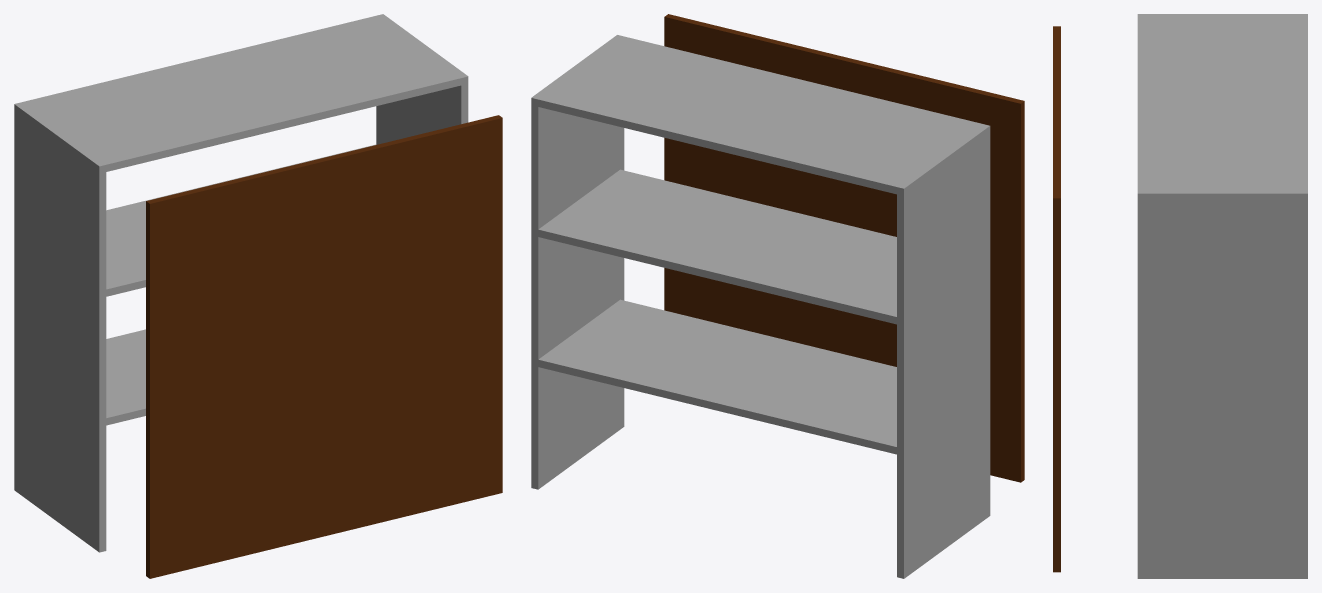
File: meuble_68fb42adb83b7.glb
3 renders of one model, left to right at view 1: azimuth 30°, elevation 25°; view 2: azimuth 150°, elevation 25°; view 3: azimuth 270°, elevation 25°, orthographic.
Visible parts, largest first — view 1: world; view 2: world; view 3: world.
Part boxes in pixels (<box>): world: <box>14,14,502,578</box>; world: <box>531,14,1024,578</box>; world: <box>1053,14,1307,578</box>.
Size of the model in its own units: 1 by 1 by 0.599.
Materials: 1 (1 with a texture image).
